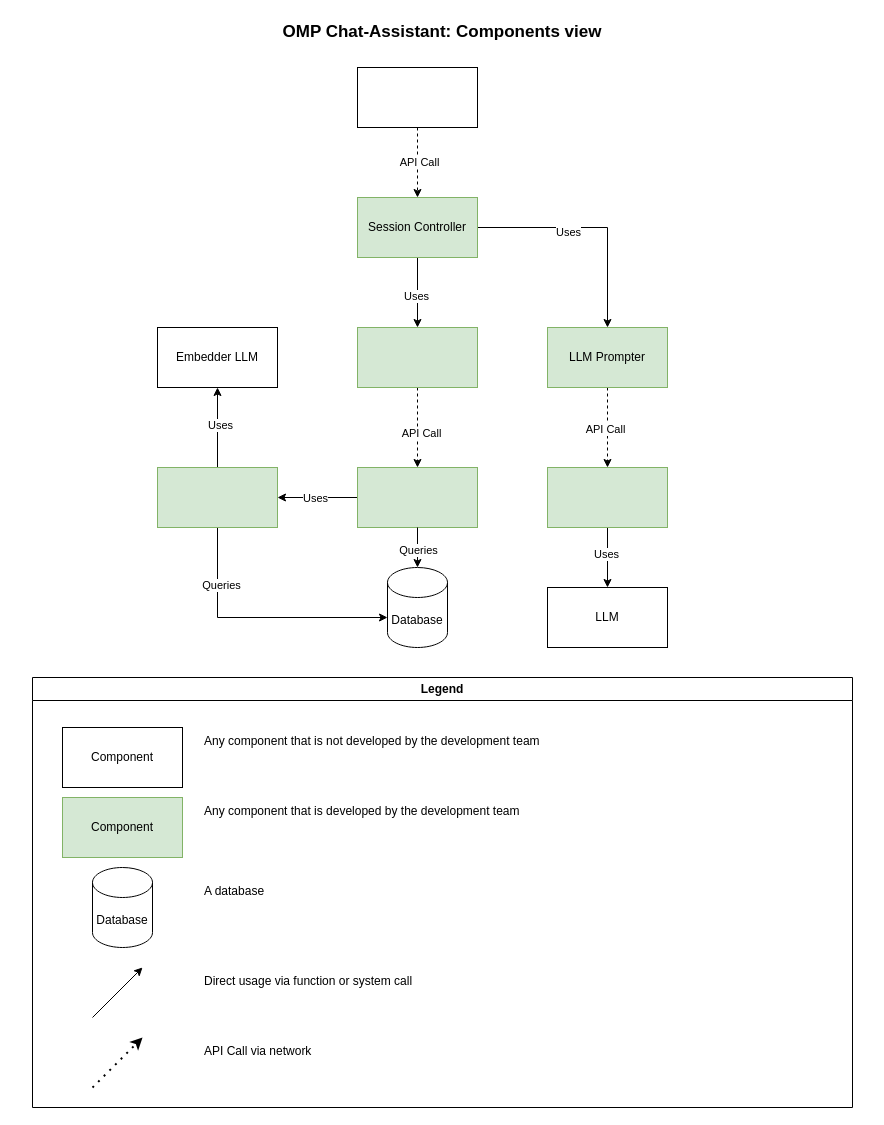
Image size: 884x1125. Some labels were removed from this diagram. Each missing label, with the centre of its shape:
Context Fetcher: the point at 417,357
Database Handler: the point at 417,497
Embedder: the point at 217,497
LLM Controller: the point at 607,497
User-Facing Component: the point at 417,97
